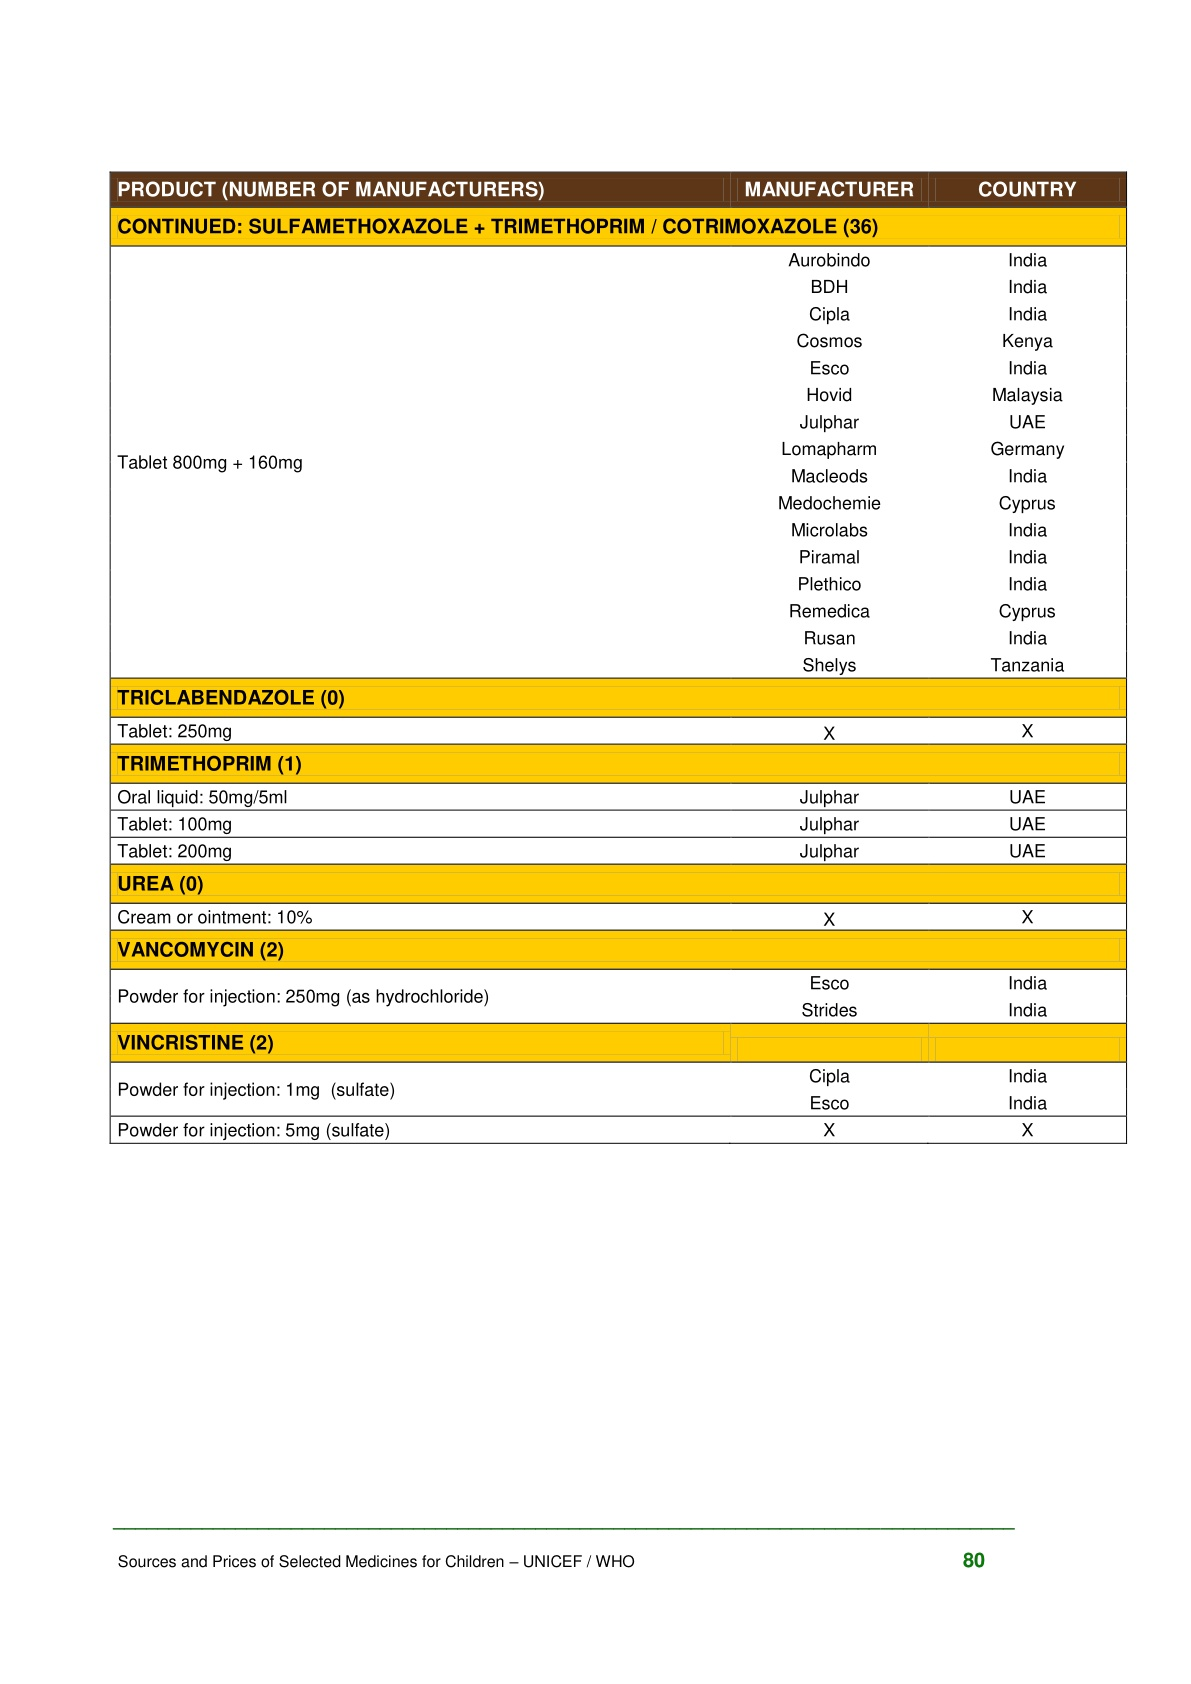partial_lined_merged_cells: (110, 167, 1129, 1147)
